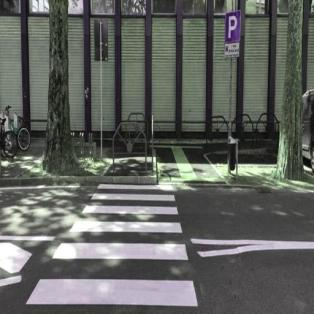Paso de Cebra: (51, 214, 190, 266), (89, 181, 178, 204)
